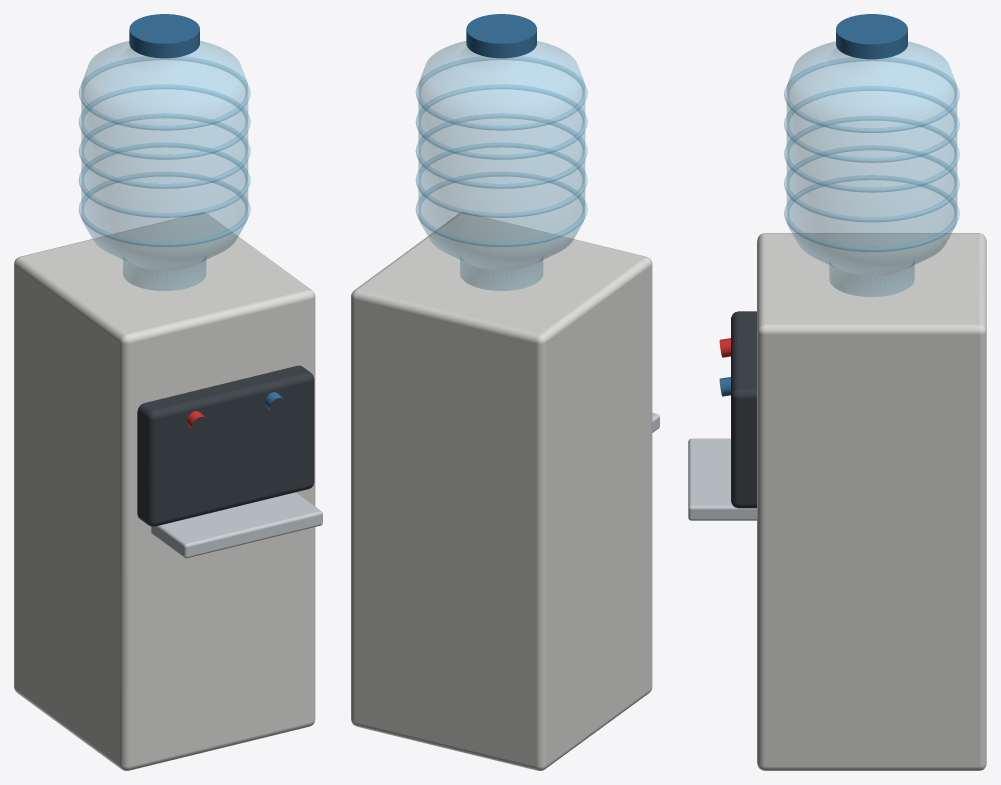
The model's file is fencing-club-and-tournament-piste-water-cooler-fead9477__31249.glb.
3 views of the same model, side by side, from view 1: azimuth 30°, elevation 25°; view 2: azimuth 150°, elevation 25°; view 3: azimuth 270°, elevation 25° (orthographic). The views are drawn at different scales.
Visible parts, largest first — view 1: water-cooler; view 2: water-cooler; view 3: water-cooler.
Boxes of the visible parts, bbox=[...] form: water-cooler: bbox=[14, 14, 322, 770]; water-cooler: bbox=[351, 14, 659, 770]; water-cooler: bbox=[688, 14, 986, 770].
Size of the model in its own units: 0.3499 by 1.17 by 0.455.
